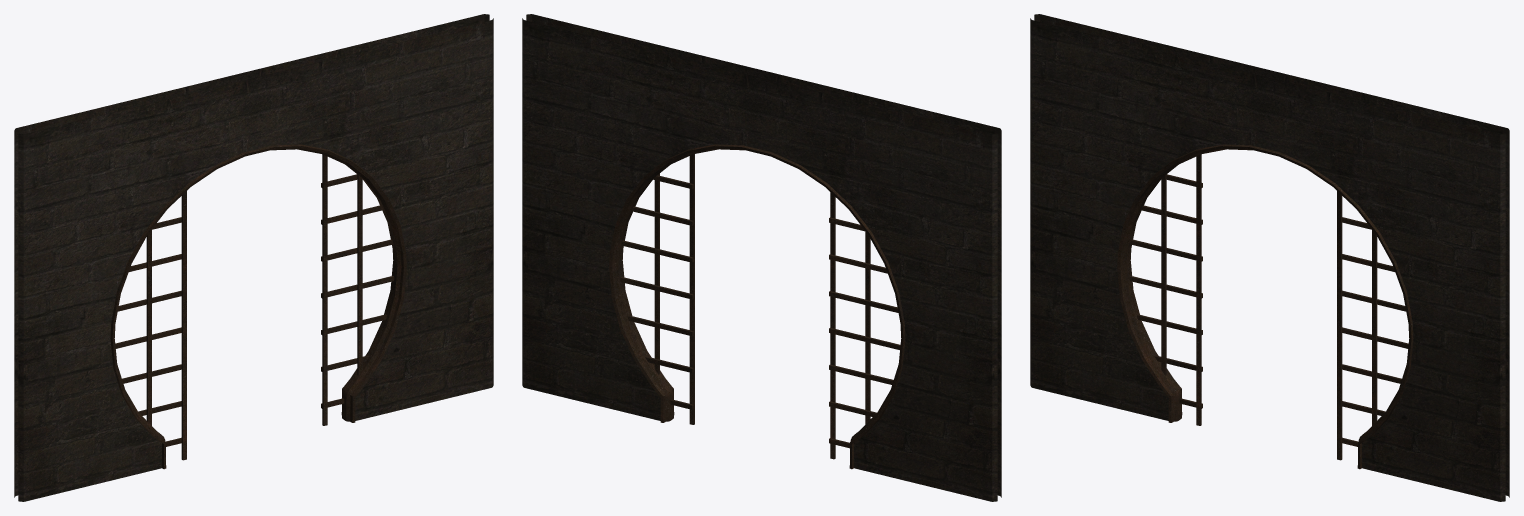
The model's file is wall_1_tunnel_hole_1.obj.
3 renders of one model, left to right at view 1: azimuth 30°, elevation 25°; view 2: azimuth 150°, elevation 25°; view 3: azimuth 330°, elevation 25°, orthographic.
Visible parts, largest first — view 1: wall_1_tunnel_hole_1; view 2: wall_1_tunnel_hole_1; view 3: wall_1_tunnel_hole_1.
Part boxes in pixels (x1=…): wall_1_tunnel_hole_1: x1=14, y1=14, x2=493, y2=501; wall_1_tunnel_hole_1: x1=522, y1=14, x2=1001, y2=501; wall_1_tunnel_hole_1: x1=1030, y1=14, x2=1509, y2=501.
Size of the model in its own units: 4.06 by 3 by 0.1697.
